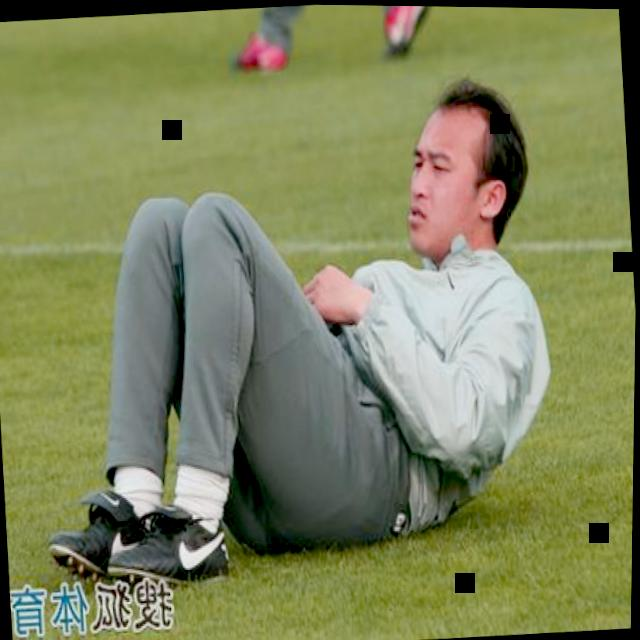Fall-Detected: (11, 38, 580, 606)
